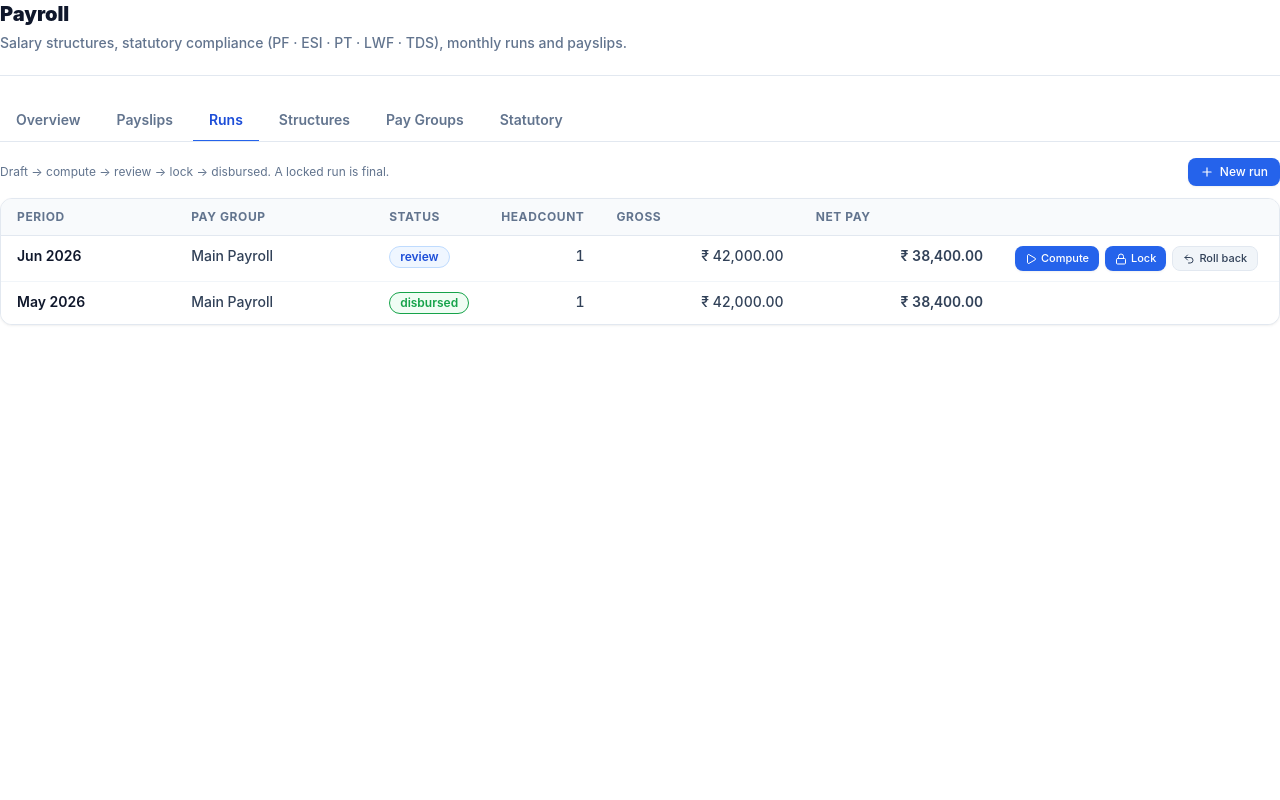
runs › validates the new-run form before sending
What coordinates should you click on to do the following:
click the button "New run"
I would click on:
 (1234, 172)
Its box is [1188, 158, 1279, 186].
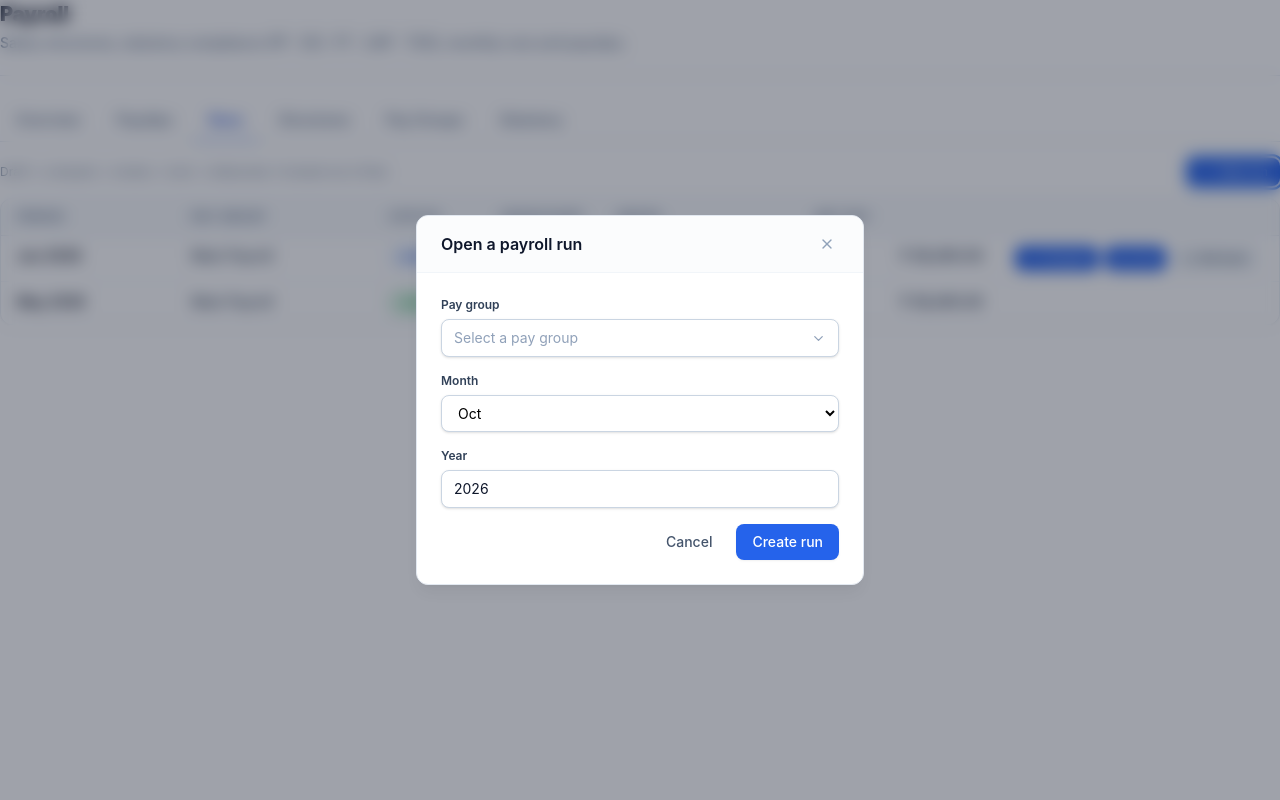
What coordinates should you click on to do the following:
click the button "Create run"
I would click on:
 (788, 542)
Its box is [736, 524, 839, 560].
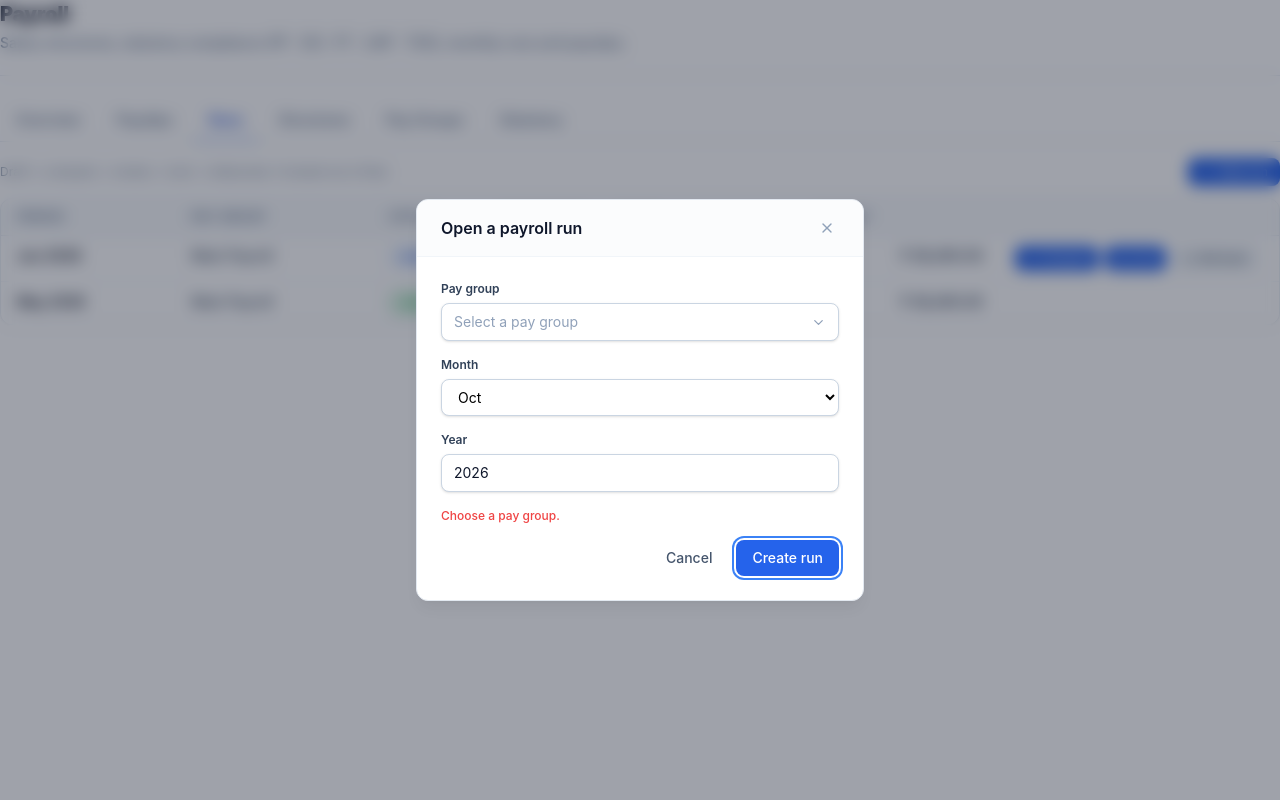
Expected: the text "Choose a pay group." is shown, [441, 508, 560, 523]
